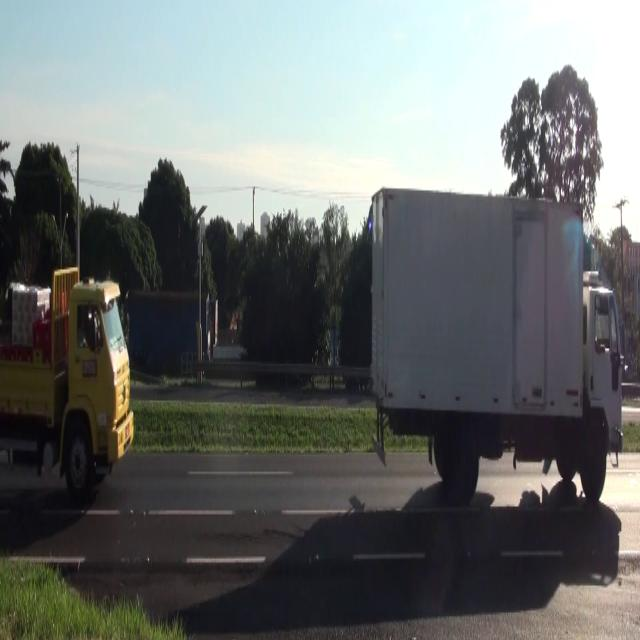-axle: (441, 413, 479, 501), (580, 421, 606, 496), (66, 422, 93, 491)
